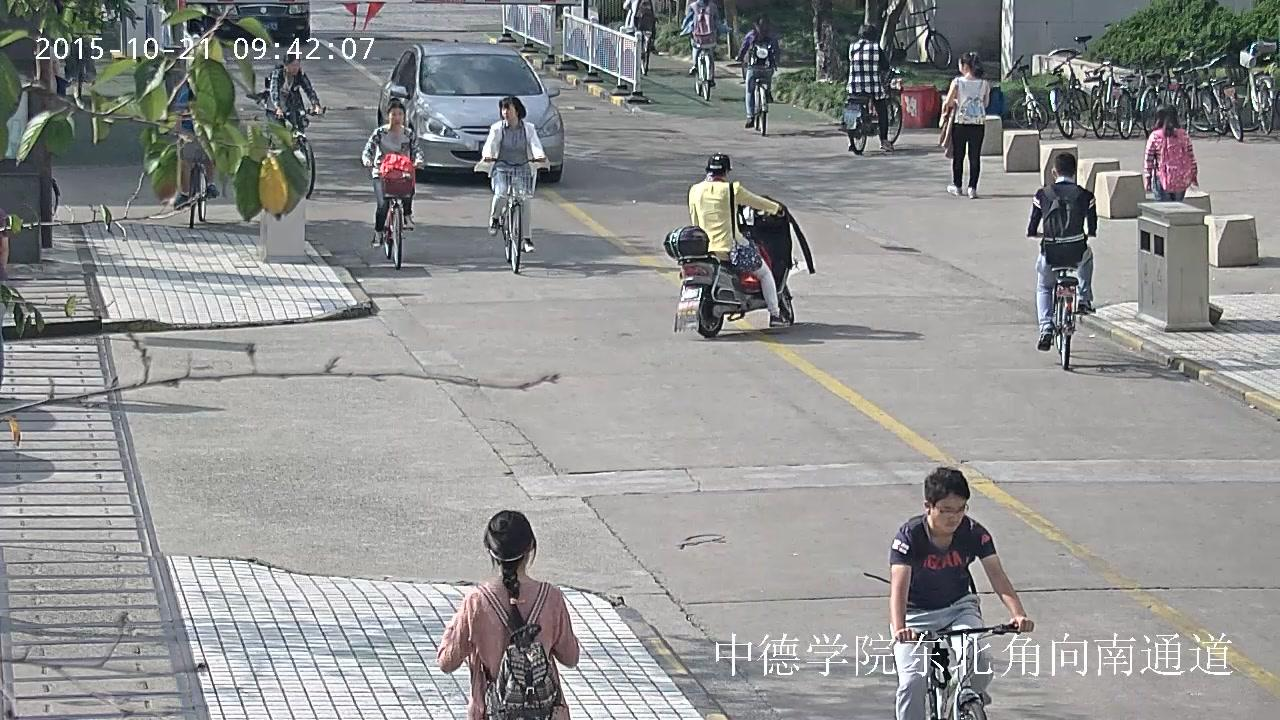face: (931, 493, 966, 533), (389, 107, 404, 126), (501, 103, 516, 120), (286, 58, 299, 75), (957, 57, 963, 73)
